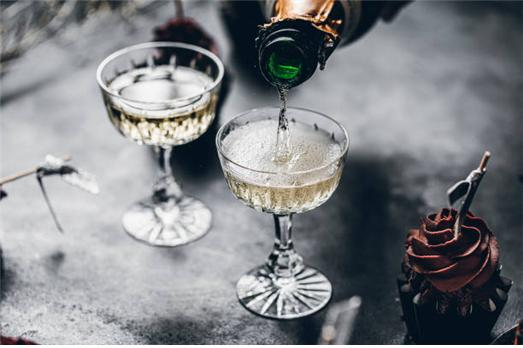alcohol: (213, 105, 349, 321), (97, 42, 219, 248), (250, 5, 402, 92)
